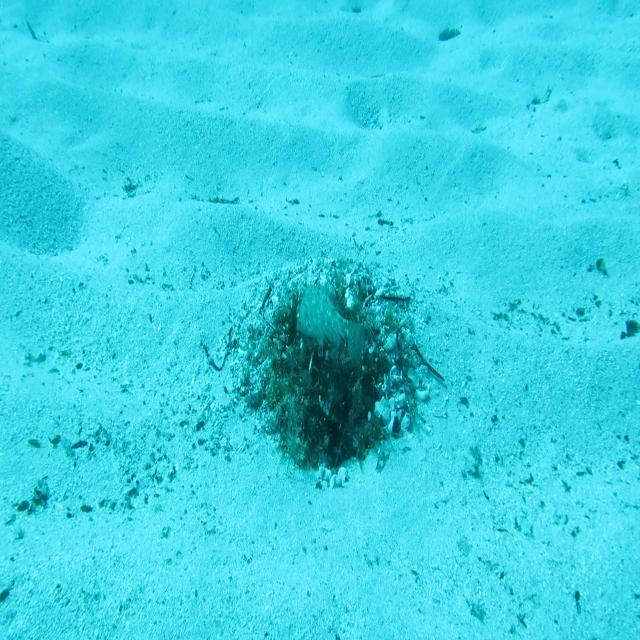NIP_CORE: (294, 280, 368, 378)
core_nest: (290, 314, 351, 350)
nest: (215, 249, 436, 501)
vegetation: (436, 24, 463, 47)
